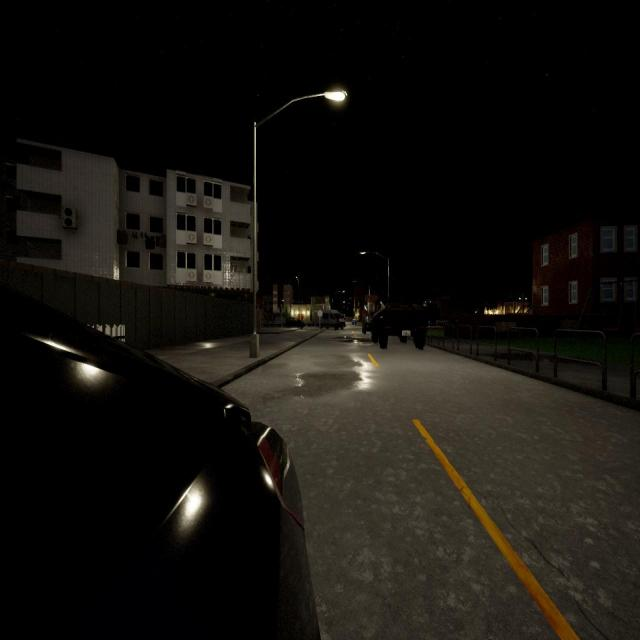Pedestrian: (335, 314, 340, 330)
Traffic_Signs: (317, 310, 323, 317)
Vehicle: (0, 285, 319, 638), (369, 299, 429, 349), (320, 310, 345, 330), (285, 317, 306, 329), (362, 316, 371, 334), (352, 319, 357, 326)
